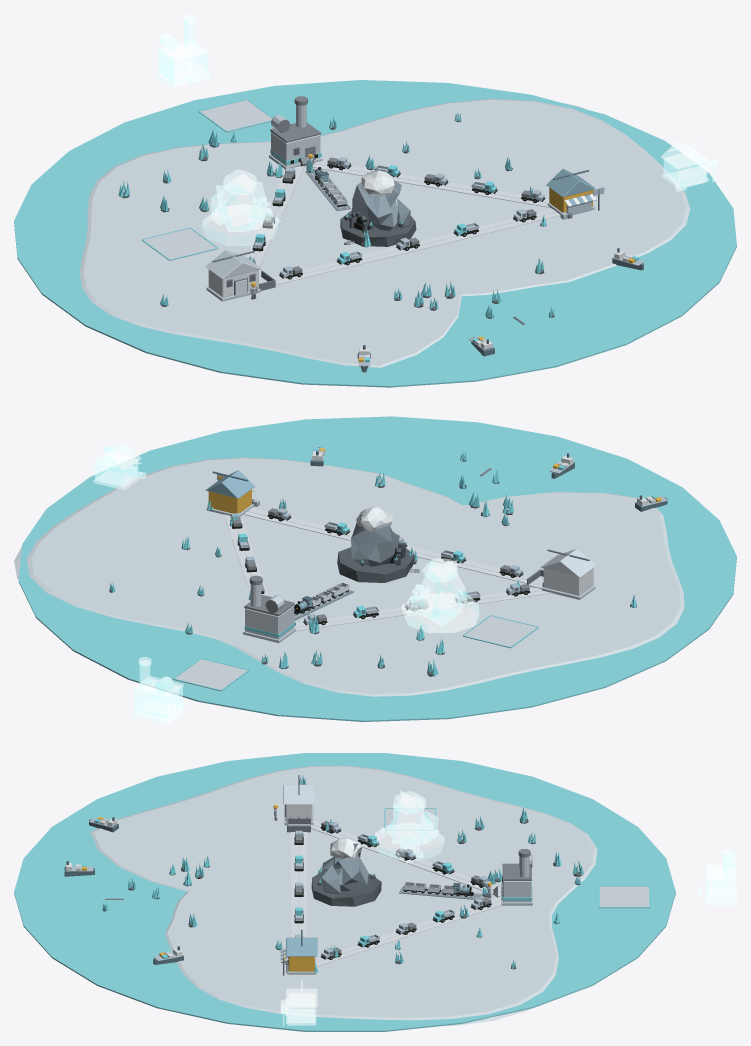
Rendered from Island_Diamond.fbx.
3 views of the same model, one above another, from view 1: azimuth 30°, elevation 25°; view 2: azimuth 150°, elevation 25°; view 3: azimuth 270°, elevation 25° (orthographic). The views are drawn at different scales.
Parts seen in each view (by area): view 1: isle_Diamond, lagoon_Diamond, ghost_mine.008, mine_Diamond, ghost_refinery.008, refinery.008, storage.008, road.021, ghost_market.008, market.008, pad_expand.016, pad_expand.017 (+2 smaller); view 2: isle_Diamond, lagoon_Diamond, mine_Diamond, ghost_mine.008, storage.008, refinery.008, ghost_refinery.008, ghost_market.008, market.008, road.021, road.019, pad_expand.016 (+2 smaller); view 3: isle_Diamond, lagoon_Diamond, mine_Diamond, ghost_mine.008, refinery.008, ghost_refinery.008, storage.008, ghost_market.008, market.008, pad_expand.017, road.020, pad_expand.016 (+2 smaller).
Part boxes in pixels (x1=…): isle_Diamond: x1=79, y1=99, x2=690, y2=367; lagoon_Diamond: x1=14, y1=80, x2=736, y2=387; ghost_mine.008: x1=202, y1=169, x2=280, y2=245; mine_Diamond: x1=340, y1=168, x2=416, y2=246; ghost_refinery.008: x1=157, y1=14, x2=210, y2=87; refinery.008: x1=269, y1=96, x2=322, y2=169; storage.008: x1=205, y1=250, x2=275, y2=301; road.021: x1=272, y1=209, x2=560, y2=284; ghost_market.008: x1=661, y1=141, x2=718, y2=191; market.008: x1=546, y1=168, x2=604, y2=219; pad_expand.016: x1=142, y1=228, x2=218, y2=260; pad_expand.017: x1=198, y1=99, x2=272, y2=132; isle_Diamond: x1=14, y1=457, x2=684, y2=696; lagoon_Diamond: x1=18, y1=416, x2=736, y2=721; mine_Diamond: x1=337, y1=506, x2=417, y2=582; ghost_mine.008: x1=401, y1=558, x2=479, y2=632; storage.008: x1=527, y1=549, x2=596, y2=599; refinery.008: x1=243, y1=575, x2=295, y2=642; ghost_refinery.008: x1=132, y1=657, x2=184, y2=724; ghost_market.008: x1=92, y1=442, x2=146, y2=489; market.008: x1=205, y1=470, x2=259, y2=515; road.021: x1=243, y1=508, x2=530, y2=583; road.019: x1=294, y1=587, x2=551, y2=631; pad_expand.016: x1=463, y1=615, x2=538, y2=648; isle_Diamond: x1=90, y1=765, x2=597, y2=1026; lagoon_Diamond: x1=14, y1=753, x2=675, y2=1031; mine_Diamond: x1=311, y1=837, x2=381, y2=906; ghost_mine.008: x1=375, y1=791, x2=444, y2=863; refinery.008: x1=493, y1=849, x2=532, y2=905; ghost_refinery.008: x1=697, y1=849, x2=736, y2=905; storage.008: x1=283, y1=775, x2=314, y2=832; ghost_market.008: x1=280, y1=980, x2=317, y2=1026; market.008: x1=280, y1=929, x2=317, y2=975; pad_expand.017: x1=598, y1=885, x2=650, y2=908; road.020: x1=316, y1=897, x2=501, y2=966; pad_expand.016: x1=384, y1=808, x2=436, y2=830.
Bounding box in the file's own units: 142 × 19.11 × 156.
